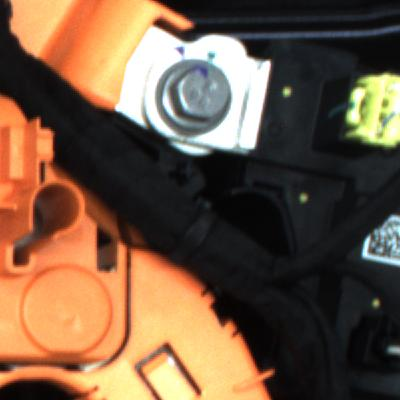nut_b: (145, 60, 243, 145)
